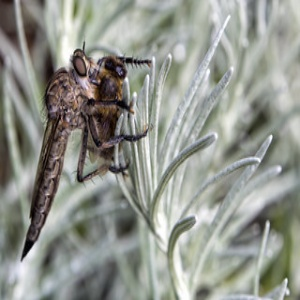bee: (101, 56, 123, 100)
